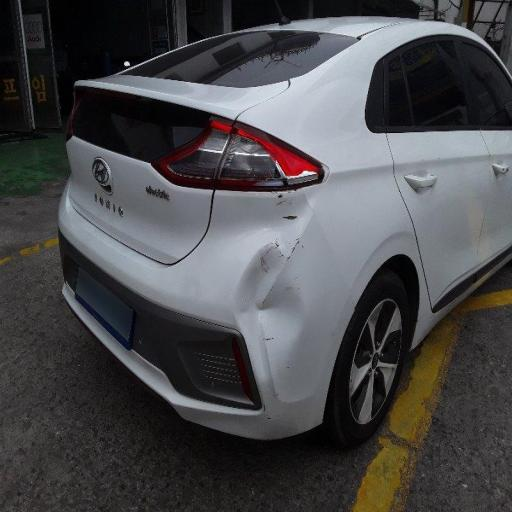dent: (218, 225, 329, 373)
